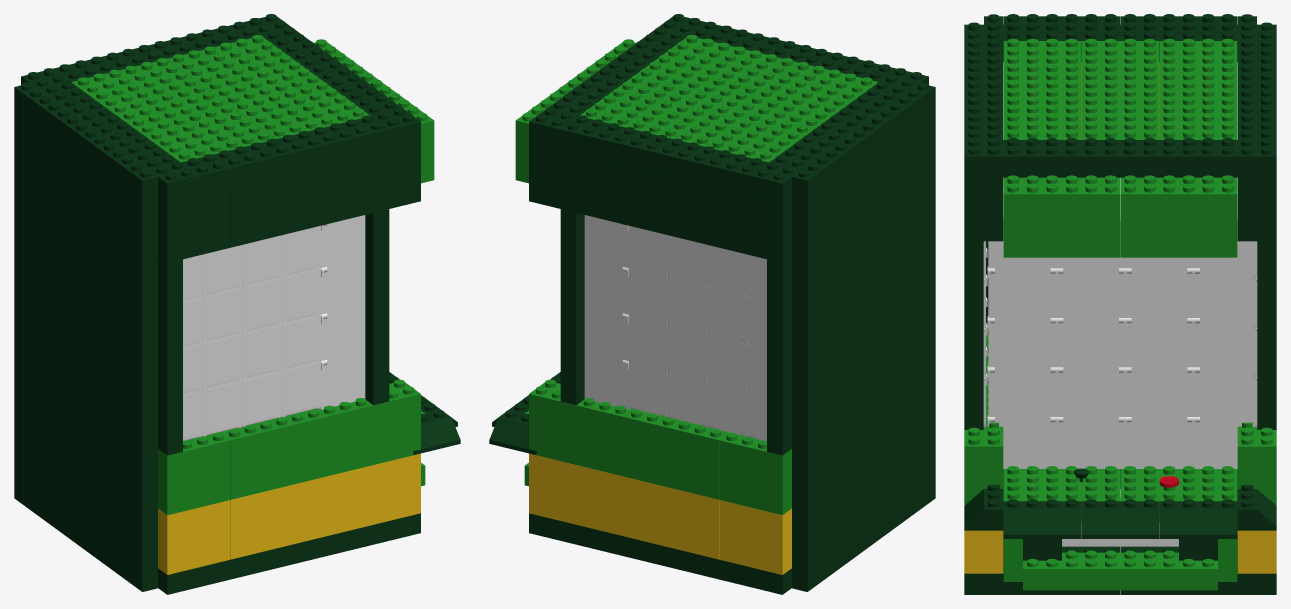
File: crane.fbx
3 renders of one model, left to right at view 1: azimuth 30°, elevation 25°; view 2: azimuth 150°, elevation 25°; view 3: azimuth 270°, elevation 25°, orthographic. The views are drawn at different scales.
Visible parts, largest first — view 1: part.138, part.030, part.137, part.134, part.146, part.131, part.143, part.082, part.036, part.172, part.173, part.038 (+63 smaller); view 2: part.029, part.139, part.140, part.133, part.145, part.132, part.144, part.081, part.035, part.172, part.173, part.037 (+63 smaller); view 3: part.147, part.148, part.024, part.032, part.091, part.093, part.090, part.092, part.094, part.095, part.086, part.085 (+52 smaller).
Part boxes in pixels (x1,y1,x2,y2): part.138: (220,409,325,499); part.030: (158,114,420,200); part.137: (315,379,420,476); part.134: (230,476,325,559); part.146: (230,165,325,247); part.131: (326,453,420,536); part.143: (326,141,420,224); part.082: (158,513,420,594); part.036: (158,432,230,515); part.172: (23,85,108,192); part.173: (78,125,163,226); part.038: (158,188,230,262); part.029: (529,114,790,203); part.139: (624,409,729,499); part.140: (529,379,634,476); part.133: (624,476,719,559); part.145: (624,165,719,247); part.132: (529,453,623,536); part.144: (529,141,623,224); part.081: (529,513,791,594); part.035: (719,432,791,515); part.172: (786,125,871,230); part.173: (841,85,926,192); part.037: (719,188,791,262); part.147: (1120,175,1237,257); part.148: (1003,175,1120,257); part.024: (964,146,1276,177); part.032: (1023,550,1217,590); part.091: (1003,38,1081,90); part.093: (1159,38,1237,90); part.090: (1003,88,1081,139); part.092: (1081,38,1159,90); part.094: (1159,88,1237,139); part.095: (1081,88,1159,139); part.086: (1003,466,1120,521); part.085: (1120,466,1237,521).
Size of the model in its own units: 16392 by 20030 by 12792.
